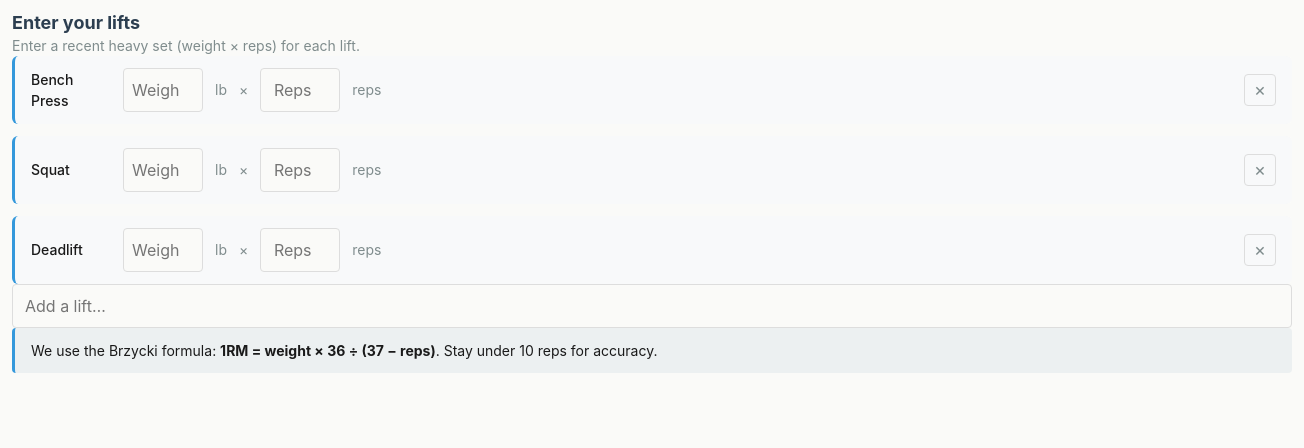
Scenario: StepLifts — add a lift › does not offer a custom-add when the query exactly matches a catalog lift
In the dropdown labelled "Add a lift": (652, 306) [12, 284, 1292, 328], type "Overhead Press"
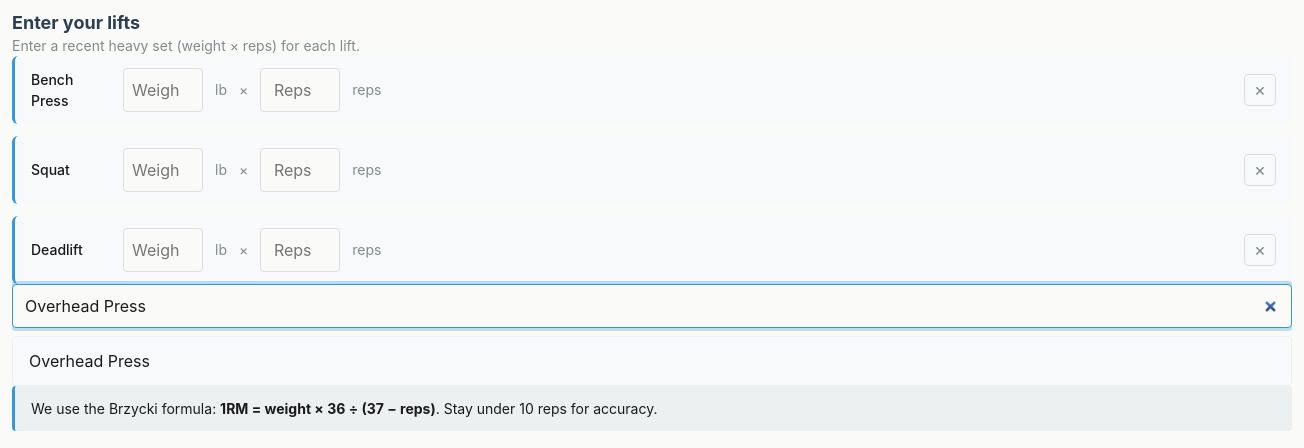
Result: the option "Overhead Press" is shown at [13, 336, 1291, 384]
